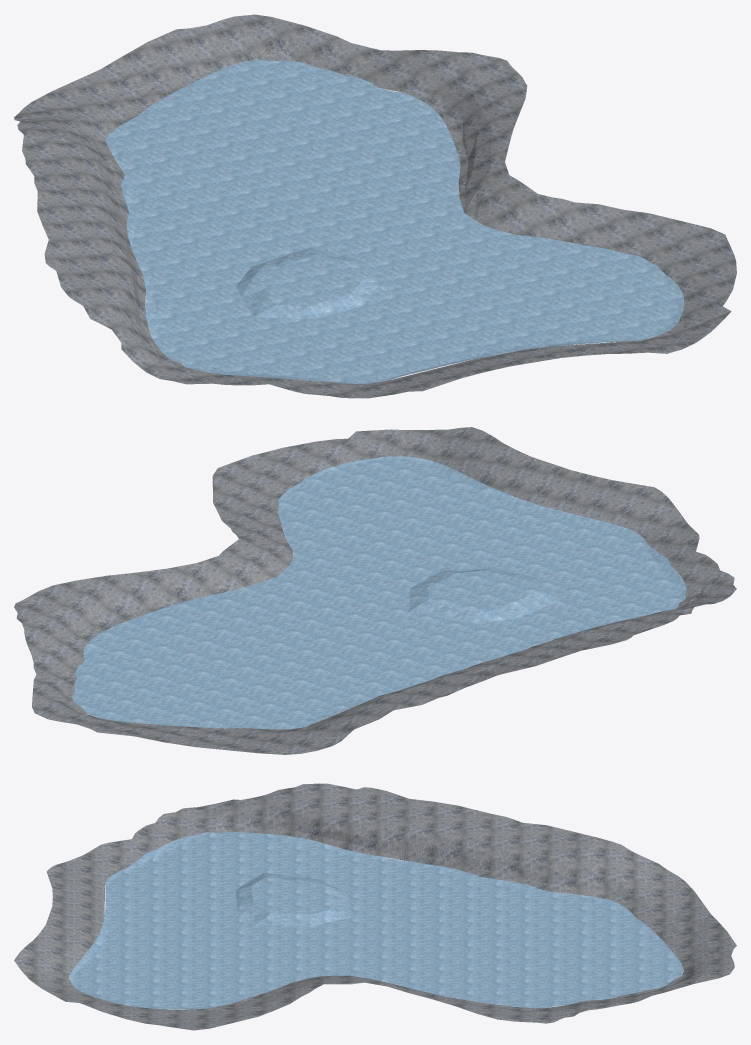
Rendered from ice_lake_3-map.glb.
3 renders of one model, top to bottom at view 1: azimuth 30°, elevation 25°; view 2: azimuth 150°, elevation 25°; view 3: azimuth 270°, elevation 25°, orthographic. The views are drawn at different scales.
Parts seen in each view (by area): view 1: ice_lake_c_LOD0; view 2: ice_lake_c_LOD0; view 3: ice_lake_c_LOD0.
Boxes of the visible parts, x1,y1,x2,y2 form: ice_lake_c_LOD0: (14,14,736,398); ice_lake_c_LOD0: (14,427,736,754); ice_lake_c_LOD0: (14,783,736,1030).
Size of the model in its own units: 170 by 10.69 by 228.
Materials: 2 (2 with a texture image).
